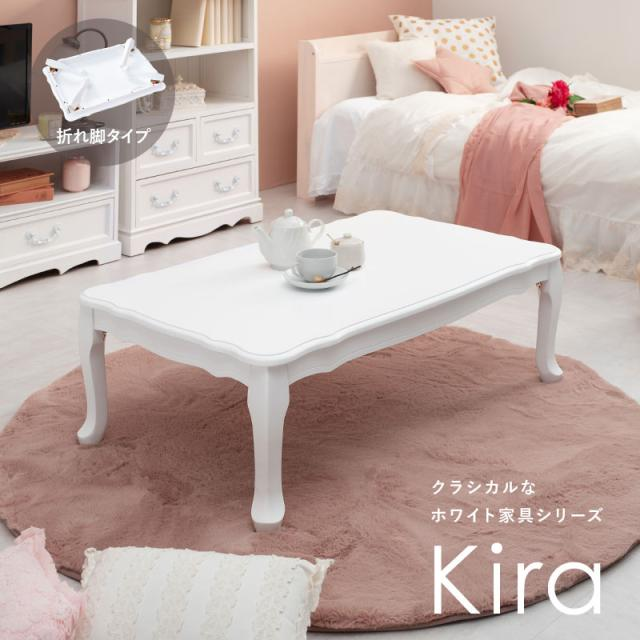white bed: (287, 15, 632, 343)
white desk: (76, 209, 564, 464)
